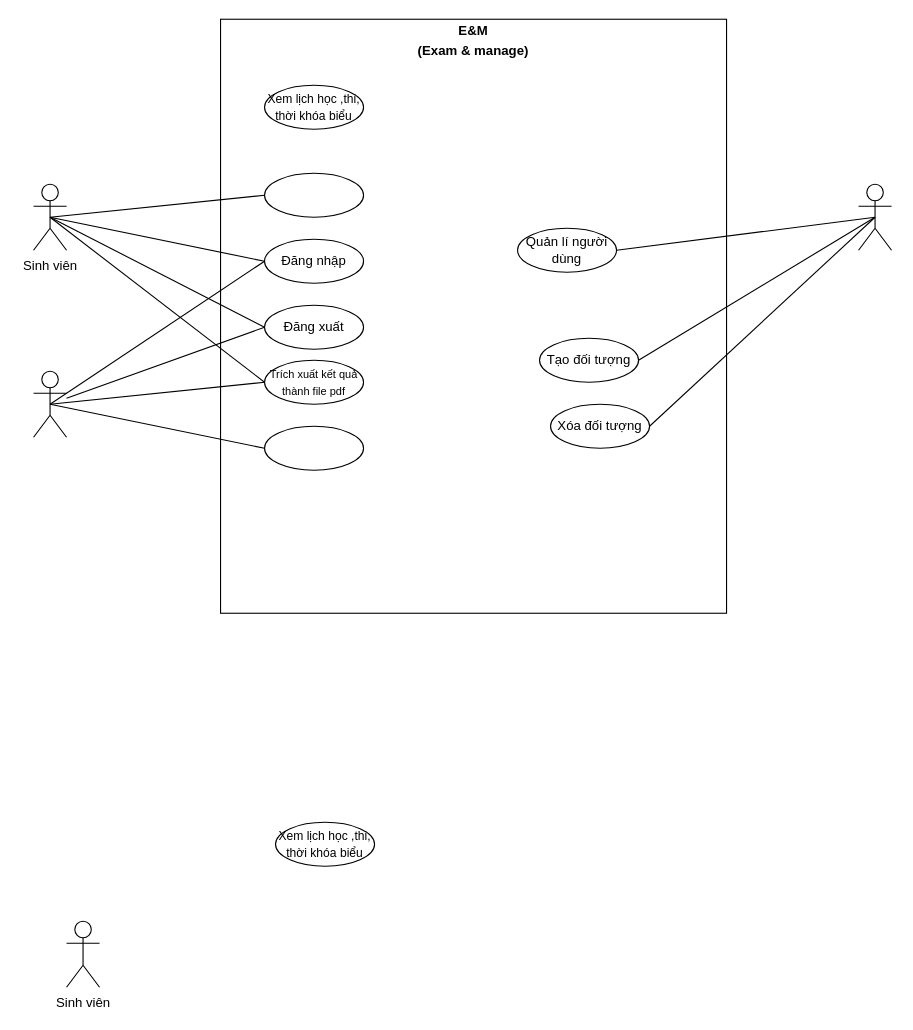
Image size: 913x1030. Some labels were removed from this diagram. Each missing label, with the centre of its shape:
Admin: (x=874, y=216)
Giảng viên: (x=49, y=403)
Thi: (x=313, y=194)
Tạo bài kiểm tra: (x=313, y=447)
